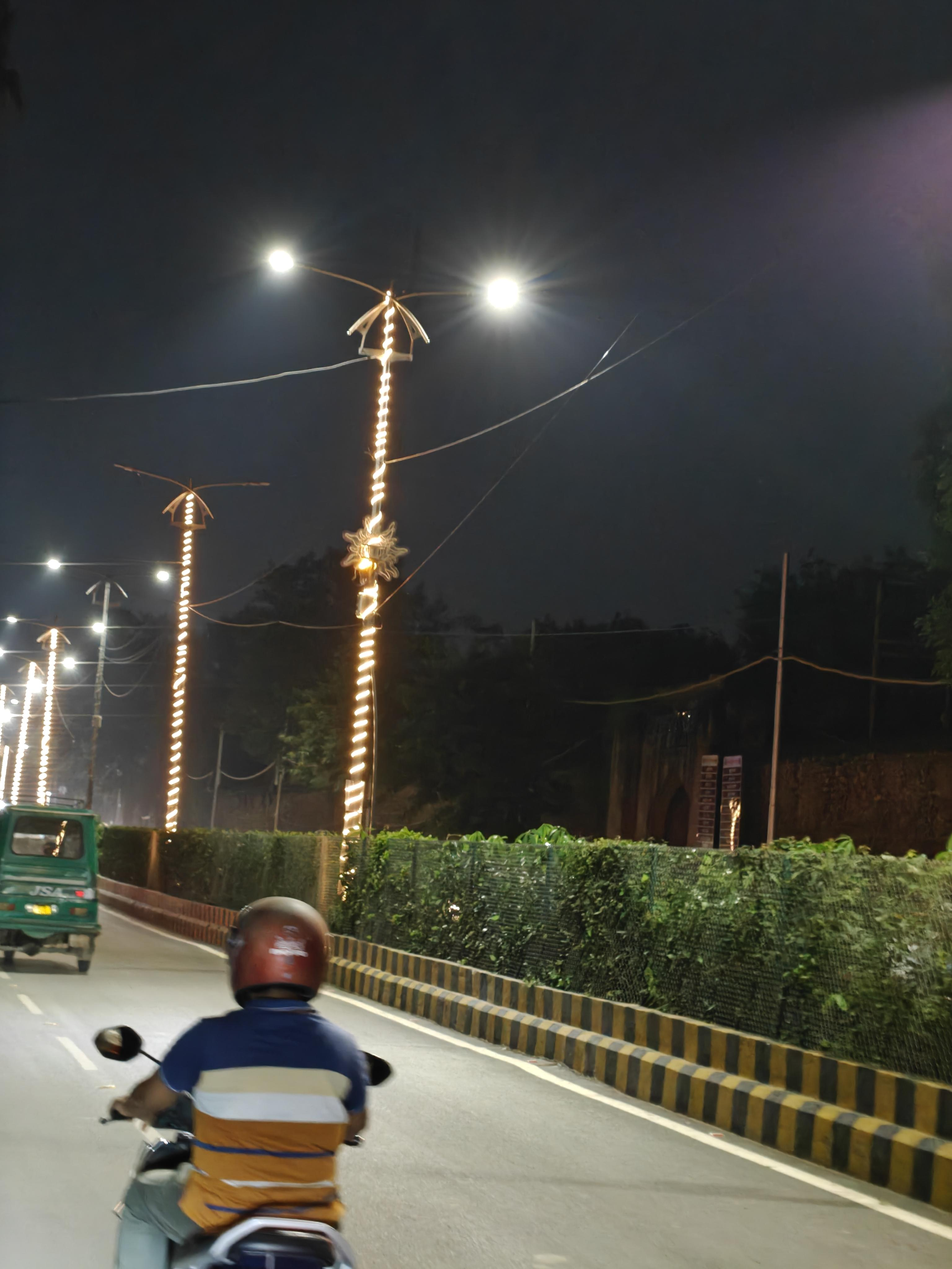streetlight: (113, 461, 183, 490), (202, 478, 271, 489)
